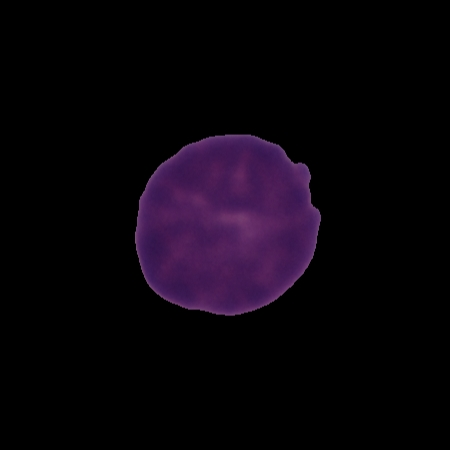HEM: (131, 131, 324, 318)
